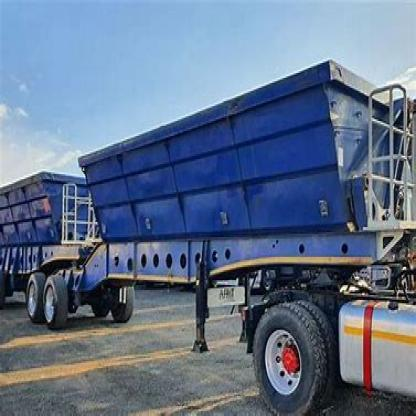dump_truck: (5, 56, 415, 411)
